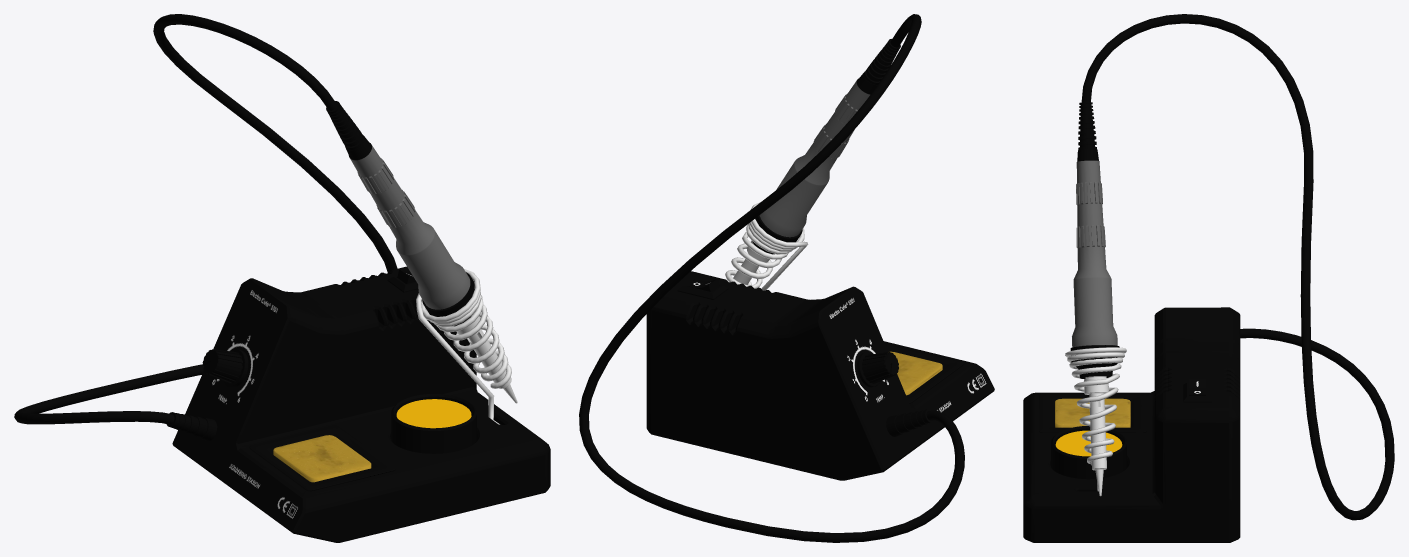
Rendered from soldering-station.glb.
3 views of the same model, side by side, from view 1: azimuth 30°, elevation 25°; view 2: azimuth 150°, elevation 25°; view 3: azimuth 270°, elevation 25° (orthographic). The views are drawn at different scales.
Parts seen in each view (by area): view 1: Object_4, Object_14, Object_21, Object_27, Object_31, Object_6, Object_29, Object_8, Object_33, Object_19, Object_25, Object_20; view 2: Object_4, Object_14, Object_21, Object_27, Object_31, Object_33, Object_29, Object_19, Object_25; view 3: Object_4, Object_14, Object_21, Object_27, Object_6, Object_29, Object_31, Object_20, Object_19, Object_8, Object_23.
Boxes of the visible parts, bbox=[...] form: Object_4: bbox=[172, 266, 550, 542]; Object_14: bbox=[14, 14, 397, 424]; Object_21: bbox=[350, 145, 470, 309]; Object_27: bbox=[416, 269, 511, 424]; Object_31: bbox=[273, 435, 371, 482]; Object_6: bbox=[391, 394, 476, 453]; Object_29: bbox=[249, 425, 395, 491]; Object_8: bbox=[396, 399, 471, 428]; Object_33: bbox=[202, 349, 248, 387]; Object_19: bbox=[326, 101, 371, 160]; Object_25: bbox=[166, 412, 217, 441]; Object_20: bbox=[456, 316, 517, 403]; Object_4: bbox=[646, 271, 994, 480]; Object_14: bbox=[579, 14, 964, 542]; Object_21: bbox=[759, 80, 869, 237]; Object_27: bbox=[725, 202, 808, 290]; Object_31: bbox=[890, 351, 942, 395]; Object_33: bbox=[857, 352, 898, 387]; Object_29: bbox=[884, 343, 964, 403]; Object_19: bbox=[856, 39, 900, 94]; Object_25: bbox=[886, 409, 933, 436]; Object_4: bbox=[1023, 307, 1240, 542]; Object_14: bbox=[1081, 14, 1394, 520]; Object_21: bbox=[1072, 160, 1117, 347]; Object_27: bbox=[1065, 347, 1126, 491]; Object_6: bbox=[1051, 426, 1126, 479]; Object_29: bbox=[1039, 393, 1146, 432]; Object_31: bbox=[1055, 398, 1130, 427]; Object_20: bbox=[1084, 376, 1108, 496]; Object_19: bbox=[1077, 102, 1098, 161]; Object_8: bbox=[1055, 430, 1122, 456]; Object_23: bbox=[1070, 345, 1119, 378].
Bounding box in the file's own units: 0.209 × 0.2445 × 0.195.
8 materials, 3 textured.
